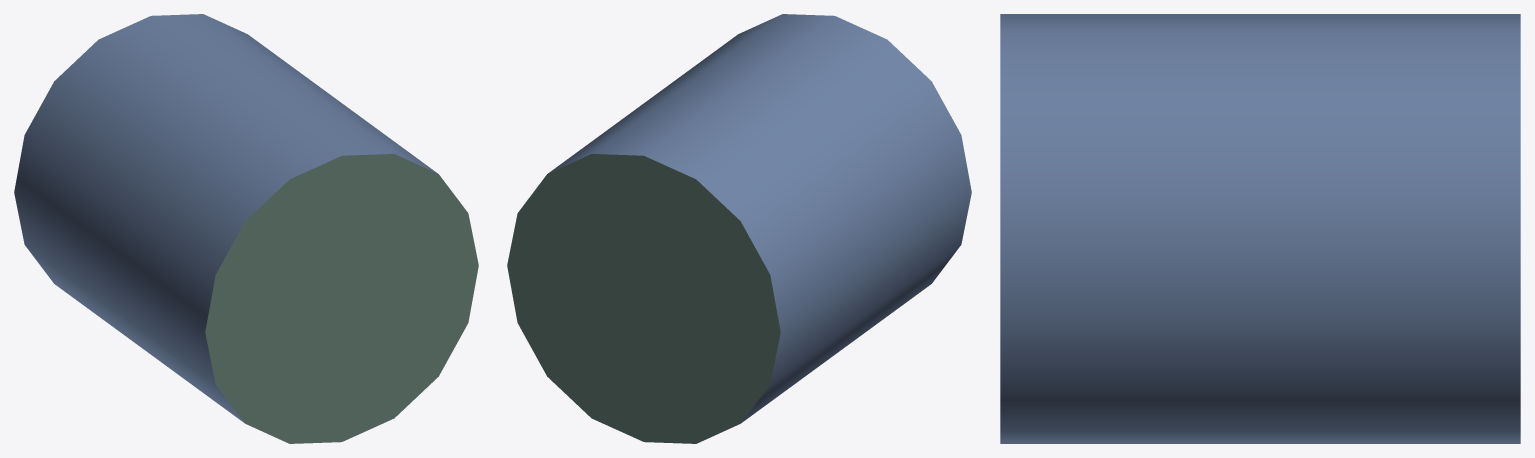
The model's file is icub_r_hip_2.dae.
3 renders of one model, left to right at view 1: azimuth 30°, elevation 25°; view 2: azimuth 150°, elevation 25°; view 3: azimuth 270°, elevation 25°, orthographic. The views are drawn at different scales.
Parts seen in each view (by area): view 1: r_hip_2_mesh; view 2: r_hip_2_mesh; view 3: r_hip_2_mesh.
Boxes of the visible parts, x1,y1,x2,y2 form: r_hip_2_mesh: (14, 14, 478, 443); r_hip_2_mesh: (507, 14, 971, 443); r_hip_2_mesh: (1000, 14, 1520, 443).
Bounding box in the file's own units: 0.062 × 0.062 × 0.075.
